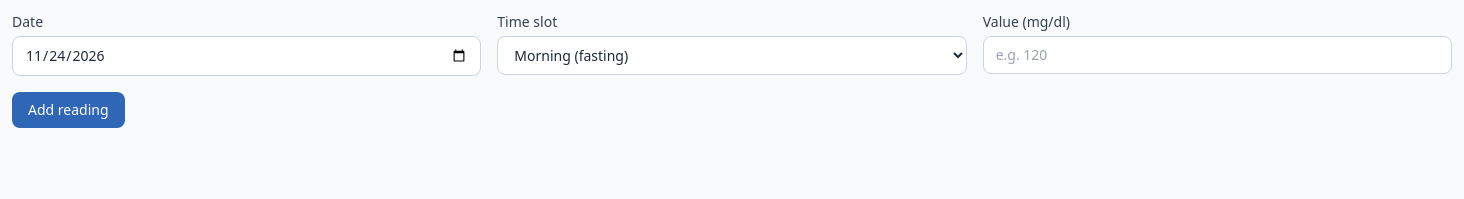
Scenario: ReadingForm › surfaces a server error returned by onSubmit
Type "120" into the field labelled "Value (mg/dl)" at (1217, 55), box [983,36,1452,74]
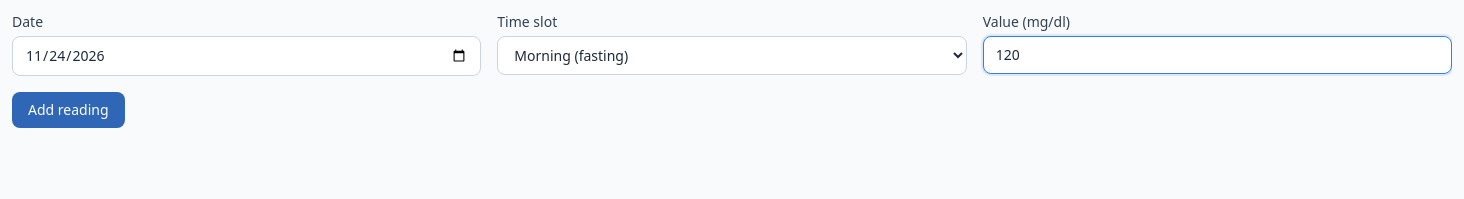
Click the button "Add reading" at (68, 110), box [12,92,124,128]
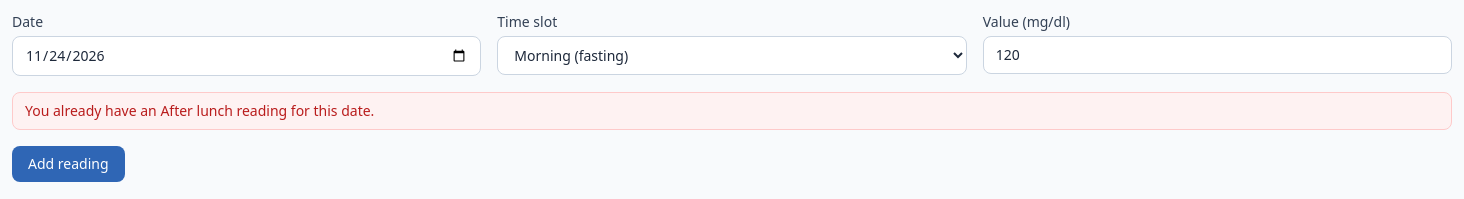
expect the message reads "You already have an After lunch reading for this date.": met, box [25,101,374,120]
